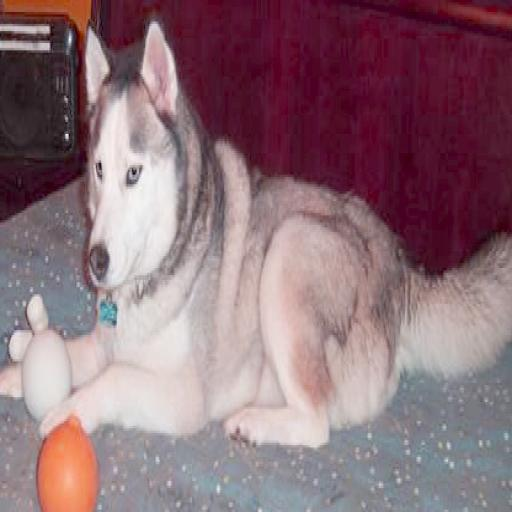dog_face: (76, 24, 181, 289)
